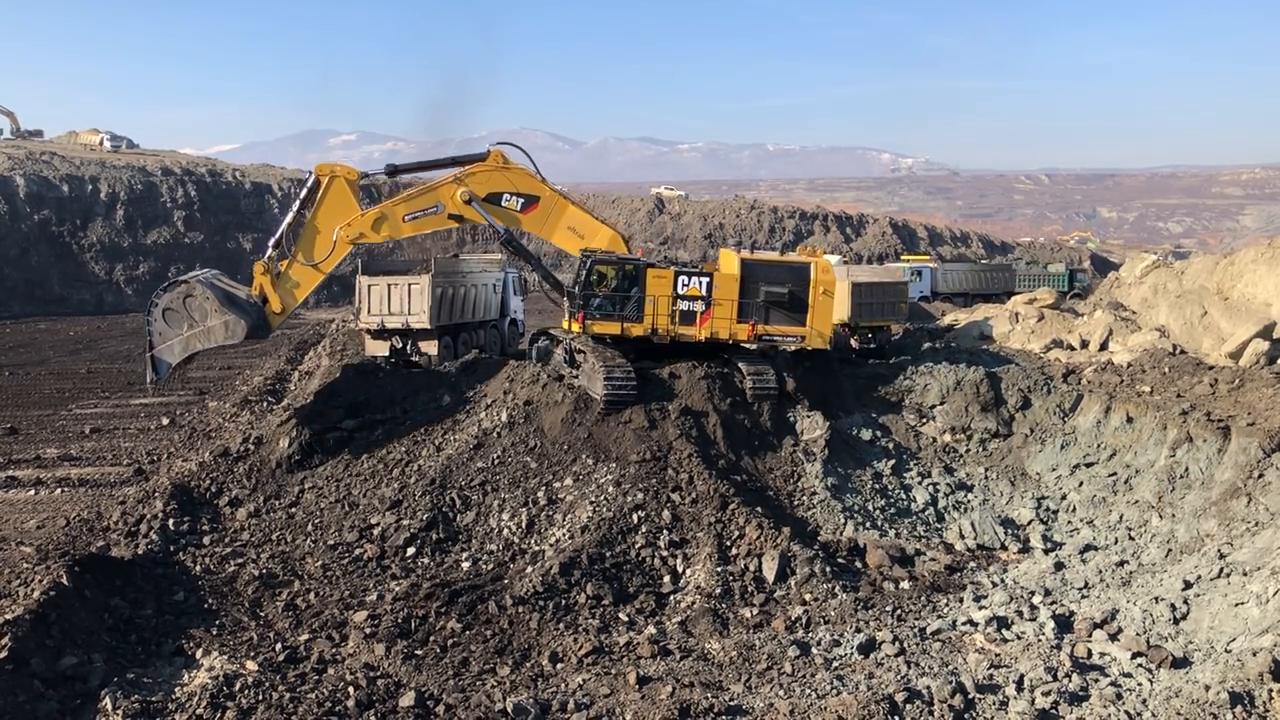empty: (124, 264, 274, 391)
